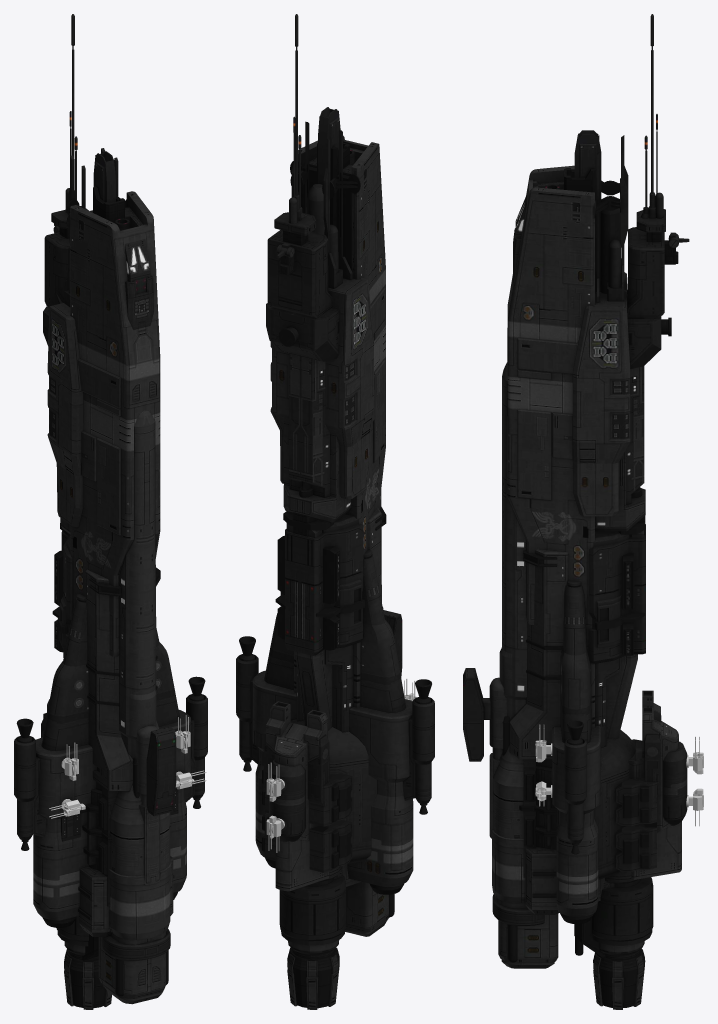
File: FRIGATE_UNSCGLADIUS.obj
3 views of the same model, side by side, from view 1: azimuth 30°, elevation 25°; view 2: azimuth 150°, elevation 25°; view 3: azimuth 270°, elevation 25° (orthographic). The views are drawn at different scales.
Parts seen in each view (by area): view 1: Object; view 2: Object; view 3: Object.
Part boxes in pixels (x1=…): Object: x1=14, y1=14, x2=207, y2=1009; Object: x1=236, y1=14, x2=434, y2=1009; Object: x1=463, y1=14, x2=703, y2=1009.
Bounding box in the file's own units: 10.52 × 51.22 × 11.34.
